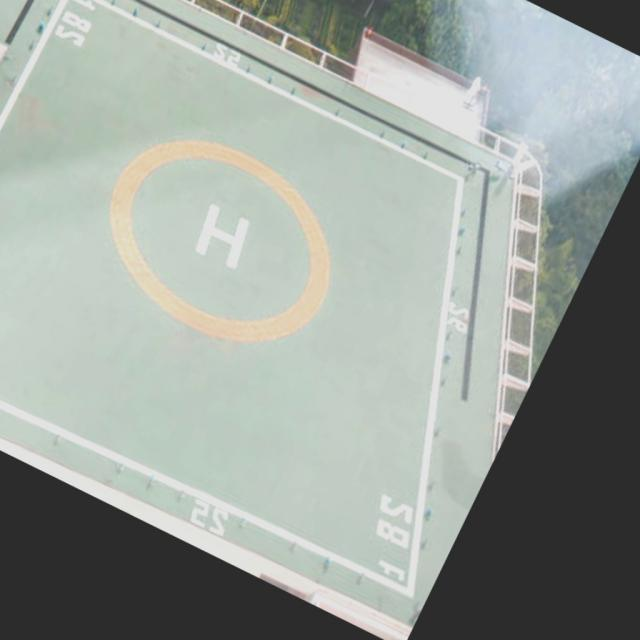helipad: (100, 130, 334, 351)
